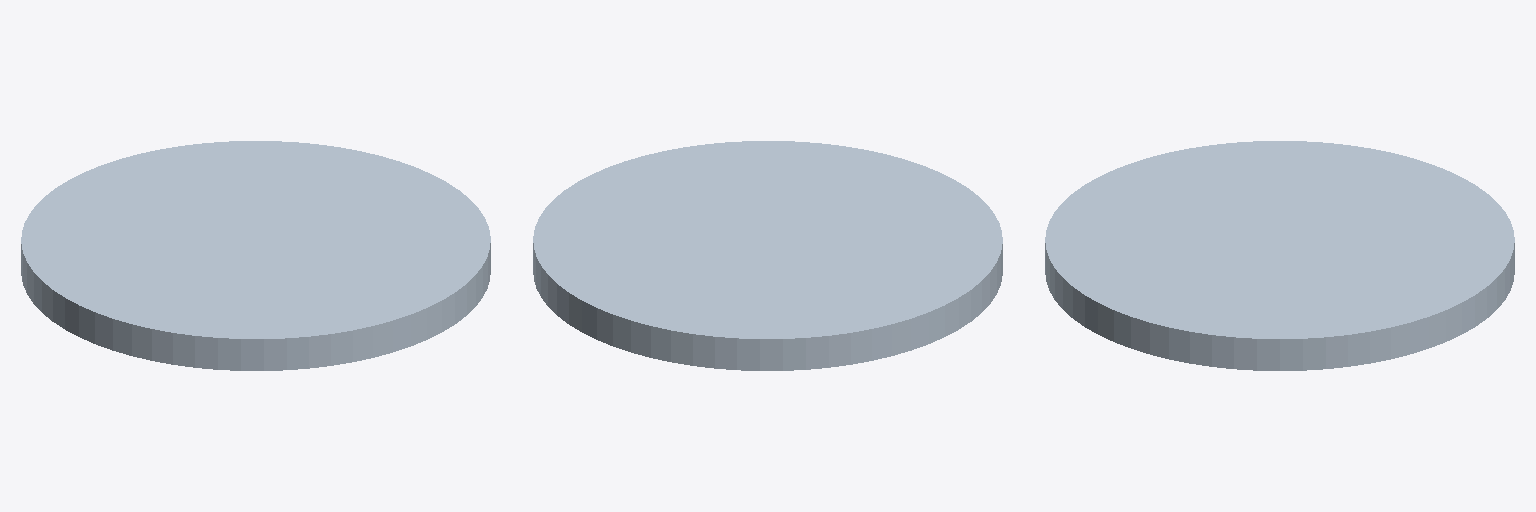
The model's file is coin_thick.obj.
The picture shows the model from 3 angles: view 1: azimuth 30°, elevation 25°; view 2: azimuth 150°, elevation 25°; view 3: azimuth 270°, elevation 25°; orthographic projection.
Parts seen in each view (by area): view 1: CoinThick; view 2: CoinThick; view 3: CoinThick.
Part boxes in pixels (x1,y1,x2,y2): CoinThick: (21, 141, 490, 370); CoinThick: (533, 141, 1002, 370); CoinThick: (1045, 141, 1514, 370).
Bounding box in the file's own units: 2 × 0.15 × 2.